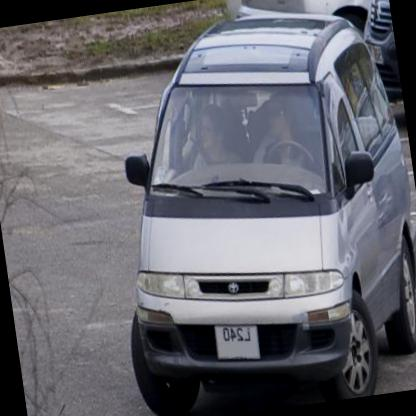car: (85, 0, 415, 415), (229, 0, 393, 55), (352, 0, 403, 111), (223, 0, 246, 25)
